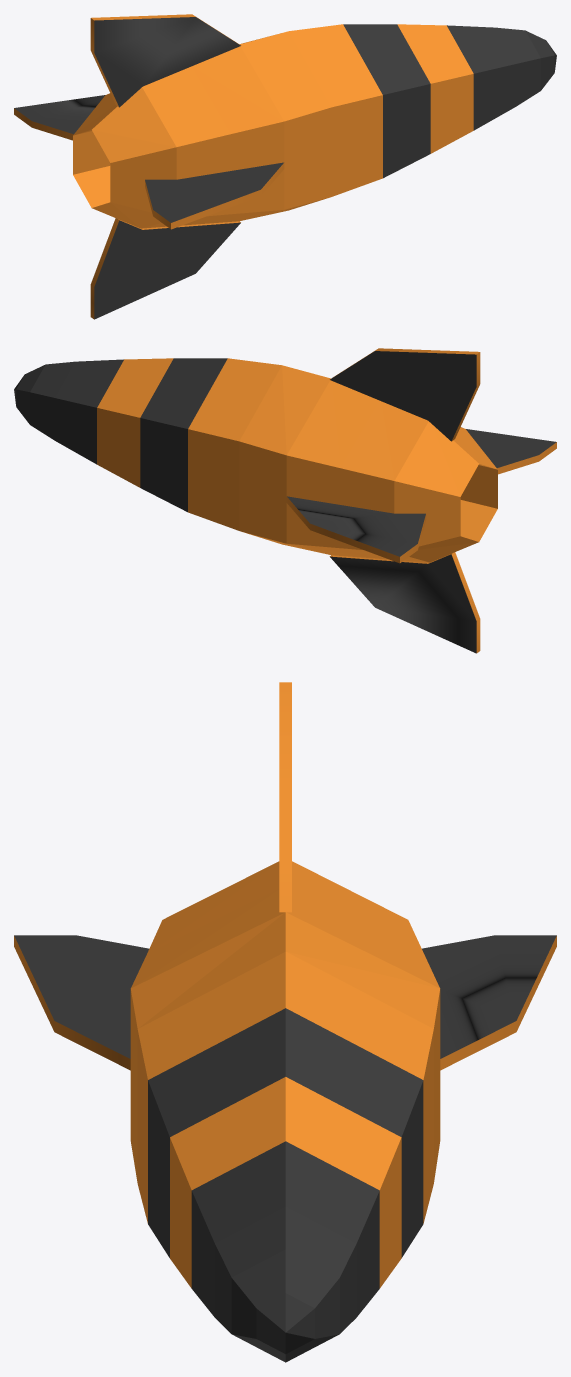
The model's file is obus.FBX.
The picture shows the model from 3 angles, top to bottom: view 1: azimuth 30°, elevation 25°; view 2: azimuth 150°, elevation 25°; view 3: azimuth 270°, elevation 25°; orthographic projection. The views are drawn at different scales.
Parts seen in each view (by area): view 1: Missile_corps; view 2: Missile_corps; view 3: Missile_corps.
Part boxes in pixels (<box>): Missile_corps: <box>14,14,556,319</box>; Missile_corps: <box>14,348,556,653</box>; Missile_corps: <box>14,682,556,1362</box>.
Size of the model in its own units: 2.59 by 1.59 by 1.52.
Materials: 1 (1 with a texture image).
